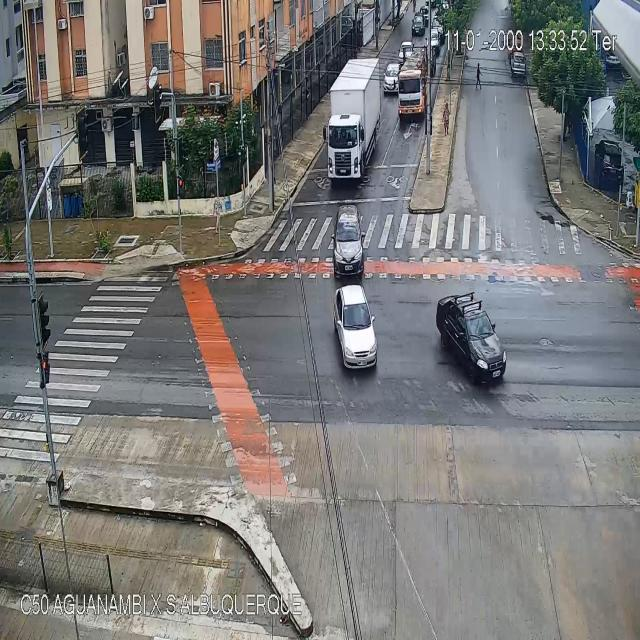Car: (438, 294, 508, 384), (334, 285, 378, 372), (333, 204, 366, 280), (383, 62, 398, 92), (431, 18, 445, 45), (400, 40, 413, 59), (412, 12, 422, 34), (430, 28, 438, 54), (420, 4, 429, 27)
Truck: (322, 58, 378, 181), (395, 48, 428, 119)
